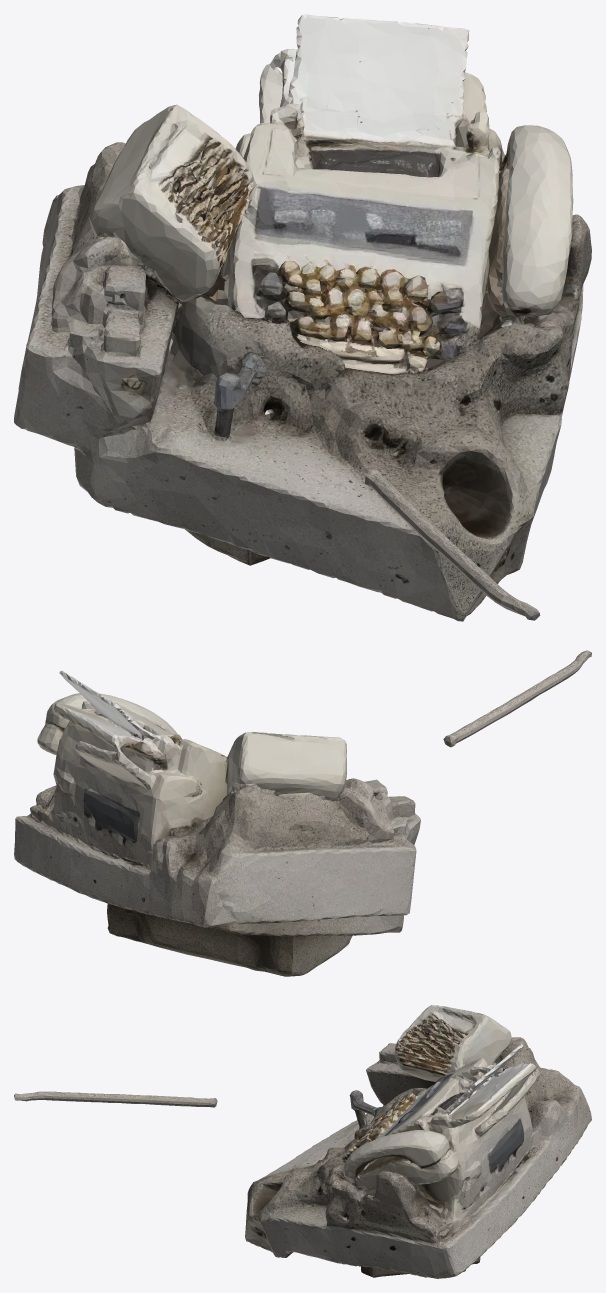
File: tail (93).glb
The picture shows the model from 3 angles, top to bottom: view 1: azimuth 30°, elevation 25°; view 2: azimuth 150°, elevation 25°; view 3: azimuth 270°, elevation 25°; orthographic projection. The views are drawn at different scales.
Visible parts, largest first — view 1: Hy21_Mesh.obj; view 2: Hy21_Mesh.obj; view 3: Hy21_Mesh.obj.
Part boxes in pixels (x1,y1,x2,y2): Hy21_Mesh.obj: (14,14,591,621); Hy21_Mesh.obj: (14,650,591,976); Hy21_Mesh.obj: (14,1005,591,1278).
Size of the model in its own units: 1.23 by 0.8277 by 1.96.
Materials: 1 (1 with a texture image).
